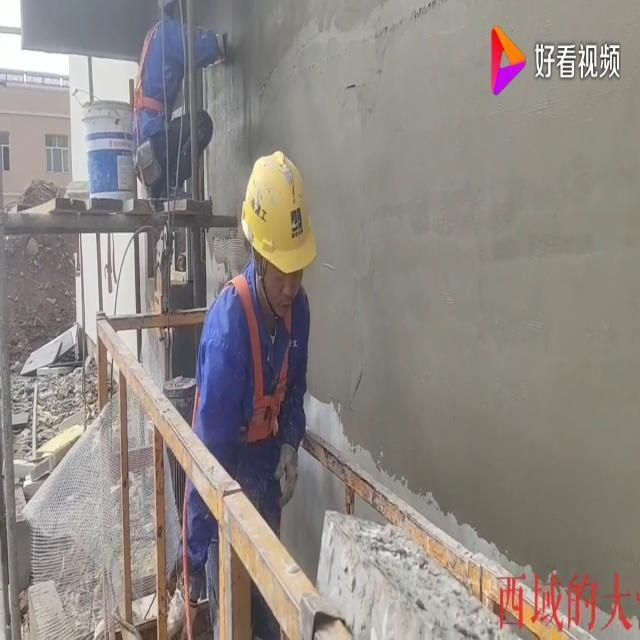Arnes_seguridad: (192, 267, 299, 453), (130, 11, 178, 125)
